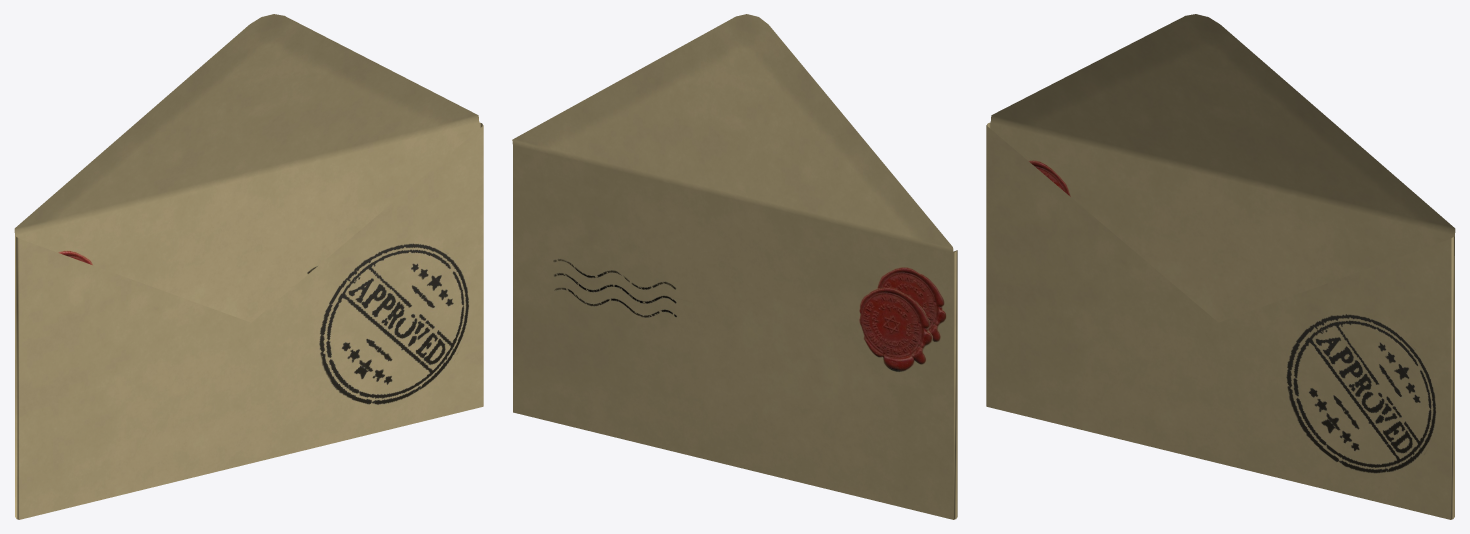
The picture shows the model from 3 angles, left to right: view 1: azimuth 30°, elevation 25°; view 2: azimuth 150°, elevation 25°; view 3: azimuth 330°, elevation 25°; orthographic projection. The views are drawn at different scales.
Parts seen in each view (by area): view 1: SM_Envelope; view 2: SM_Envelope; view 3: SM_Envelope.
Part boxes in pixels (left/top/right/bottom): SM_Envelope: left=14, top=14, right=483, bottom=519; SM_Envelope: left=512, top=14, right=957, bottom=519; SM_Envelope: left=986, top=14, right=1455, bottom=519.
Bounding box in the file's own units: 2 × 1.89 × 0.1576.
1 material, 1 textured.
